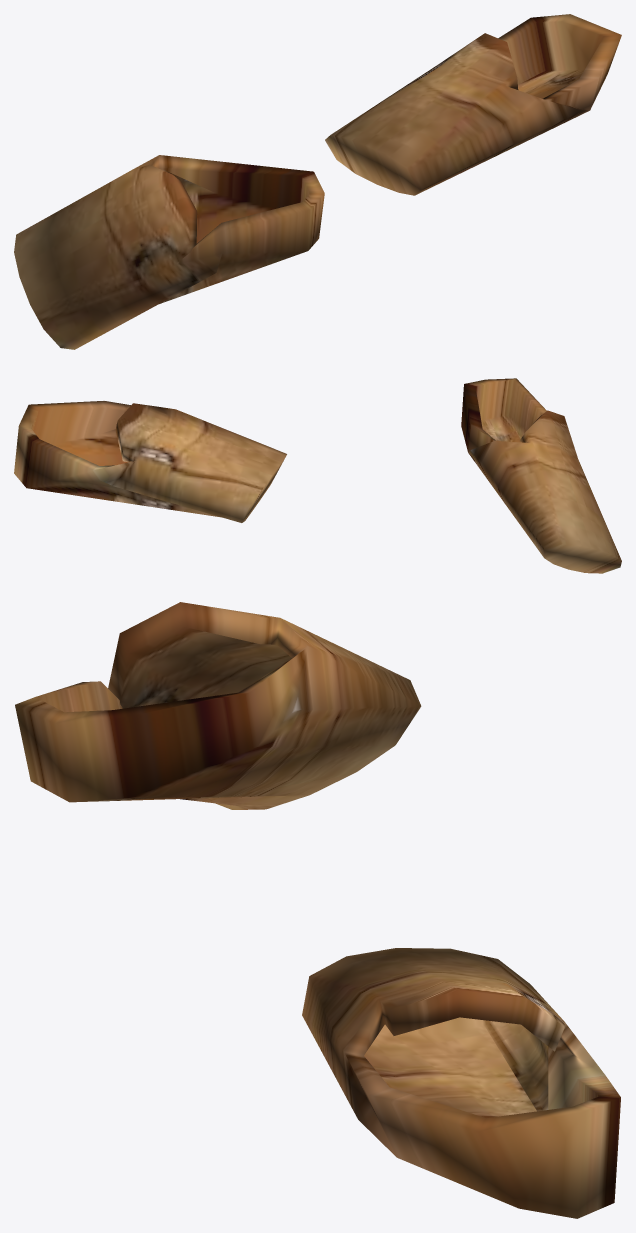
The model's file is m-shoes4.fbx.
3 renders of one model, top to bottom at view 1: azimuth 30°, elevation 25°; view 2: azimuth 150°, elevation 25°; view 3: azimuth 270°, elevation 25°, orthographic. The views are drawn at different scales.
Visible parts, largest first — view 1: M.Shoes.015; view 2: M.Shoes.015; view 3: M.Shoes.015.
Boxes of the visible parts, x1,y1,x2,y2 form: M.Shoes.015: [14, 14, 621, 349]; M.Shoes.015: [14, 378, 621, 573]; M.Shoes.015: [15, 602, 620, 1218].
Size of the model in its own units: 586 by 143 by 287.
